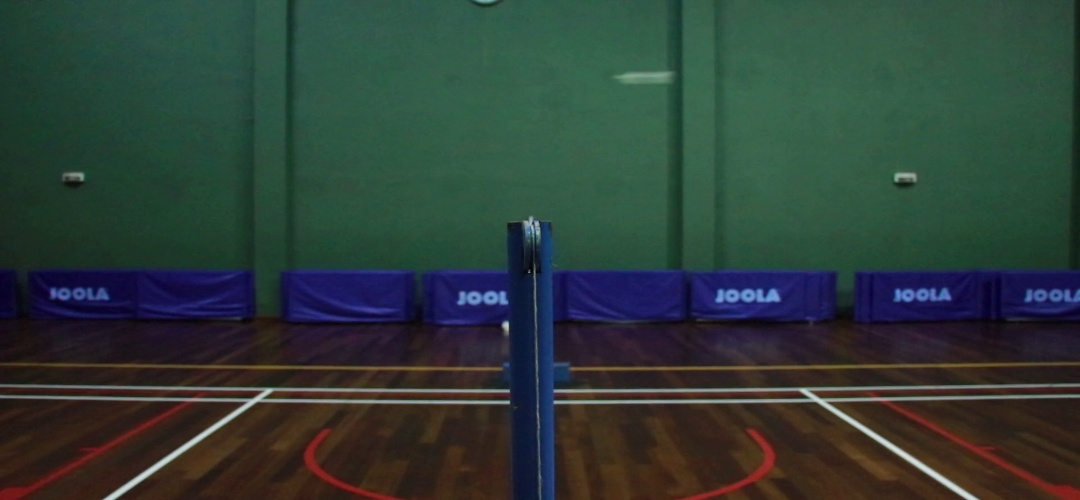c1: (238, 393, 276, 410)
c2: (796, 394, 844, 409)
net_level: (505, 220, 555, 291)
shuttle: (611, 64, 681, 85)
